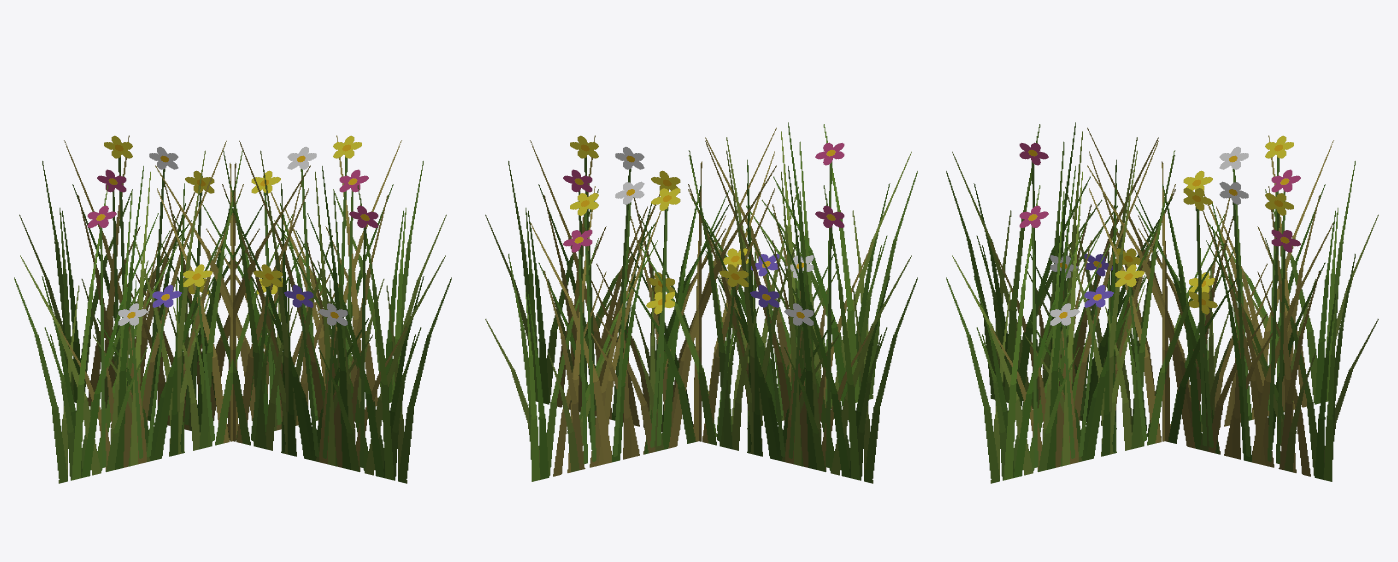
File: wildflower_clump.glb
The picture shows the model from 3 angles, left to right: view 1: azimuth 30°, elevation 25°; view 2: azimuth 150°, elevation 25°; view 3: azimuth 270°, elevation 25°; orthographic projection.
Parts seen in each view (by area): view 1: wildflower_clump; view 2: wildflower_clump; view 3: wildflower_clump.
Boxes of the visible parts, x1=… form: wildflower_clump: x1=14, y1=135, x2=451, y2=483; wildflower_clump: x1=485, y1=122, x2=917, y2=483; wildflower_clump: x1=946, y1=122, x2=1378, y2=483.
Bounding box in the file's own units: 1 × 0.7 × 0.866.
1 material, 1 textured.
